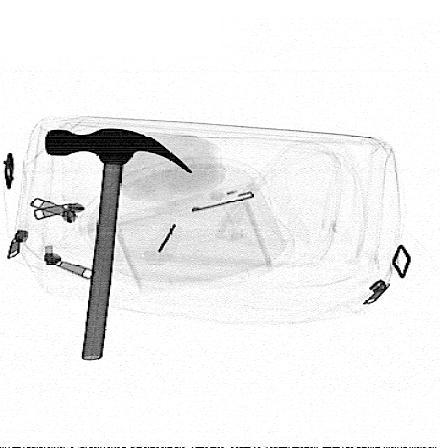Hammer: (44, 128, 193, 362)
